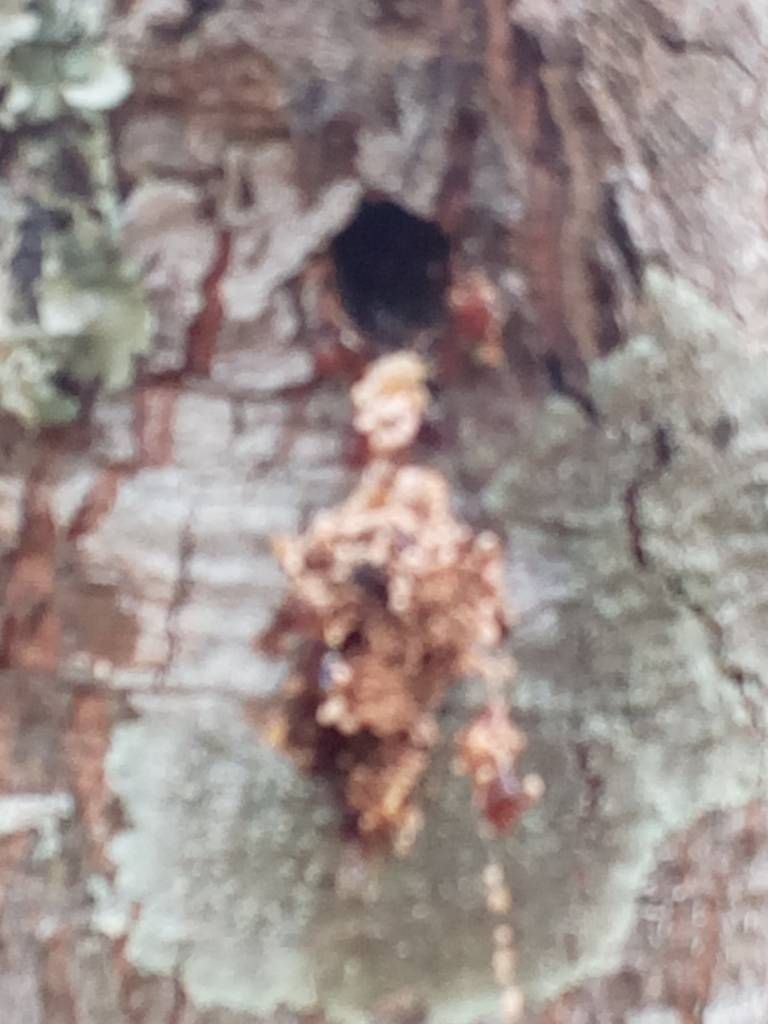Apate terebrans: (238, 194, 529, 385)
